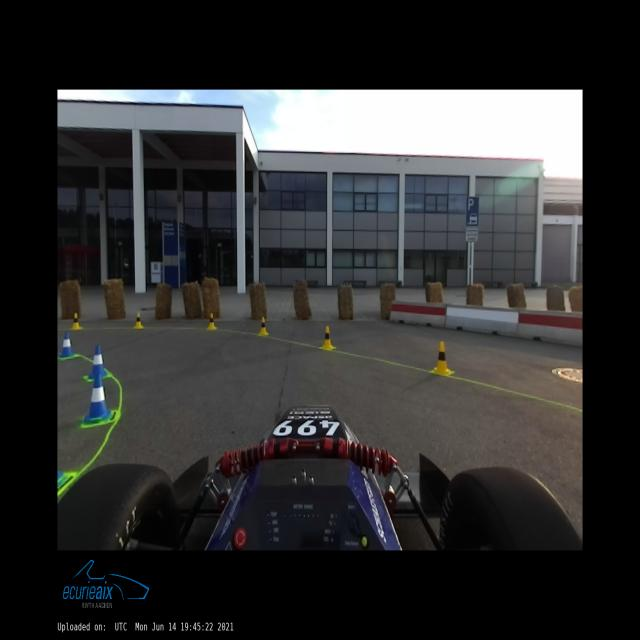blue_cone: (84, 373, 111, 423), (89, 346, 107, 378), (59, 332, 74, 357)
yellow_cone: (433, 341, 451, 374), (321, 326, 333, 349), (259, 317, 268, 335), (71, 313, 81, 329), (134, 313, 143, 328), (207, 313, 216, 328)
